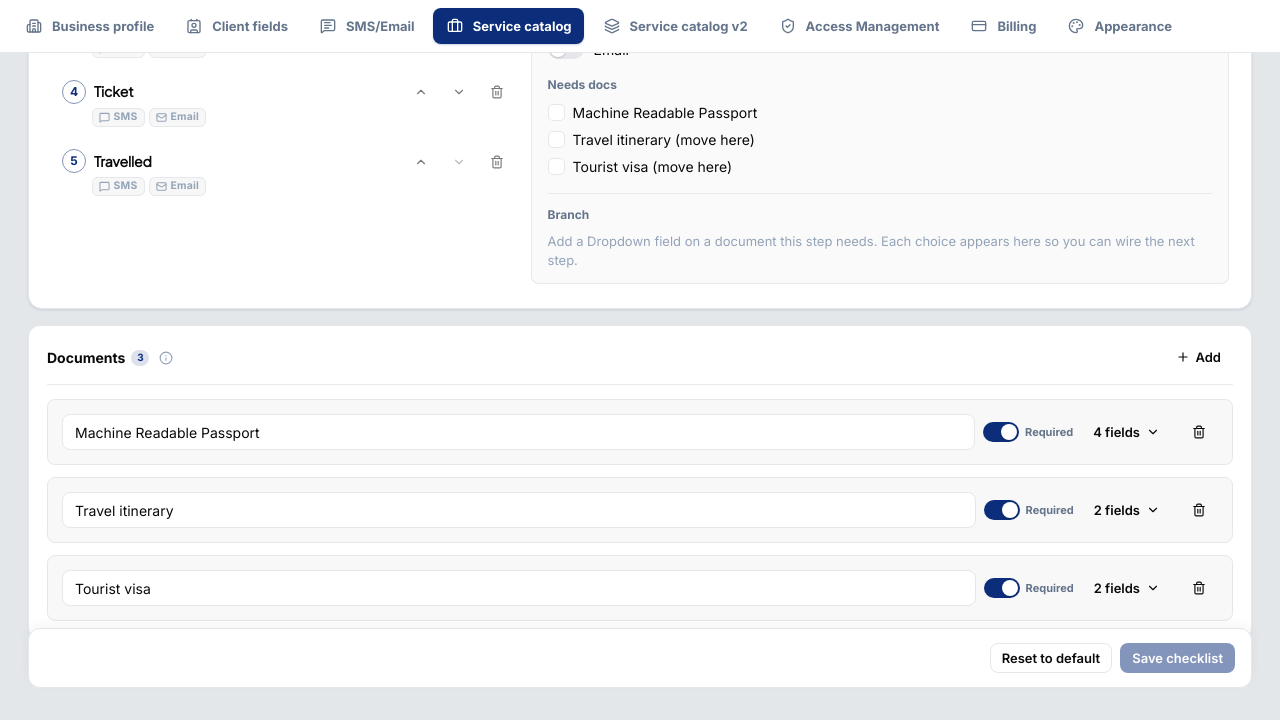
settings service catalog › sets document fields beside the document in the service checklist
(page scrolled)
Expected: the button "Save checklist" is shown, [1120,643,1235,673]
Click the button with aria-label "set fields for machine readable passport" at coordinates (1127, 432), box [1081,418,1172,448]
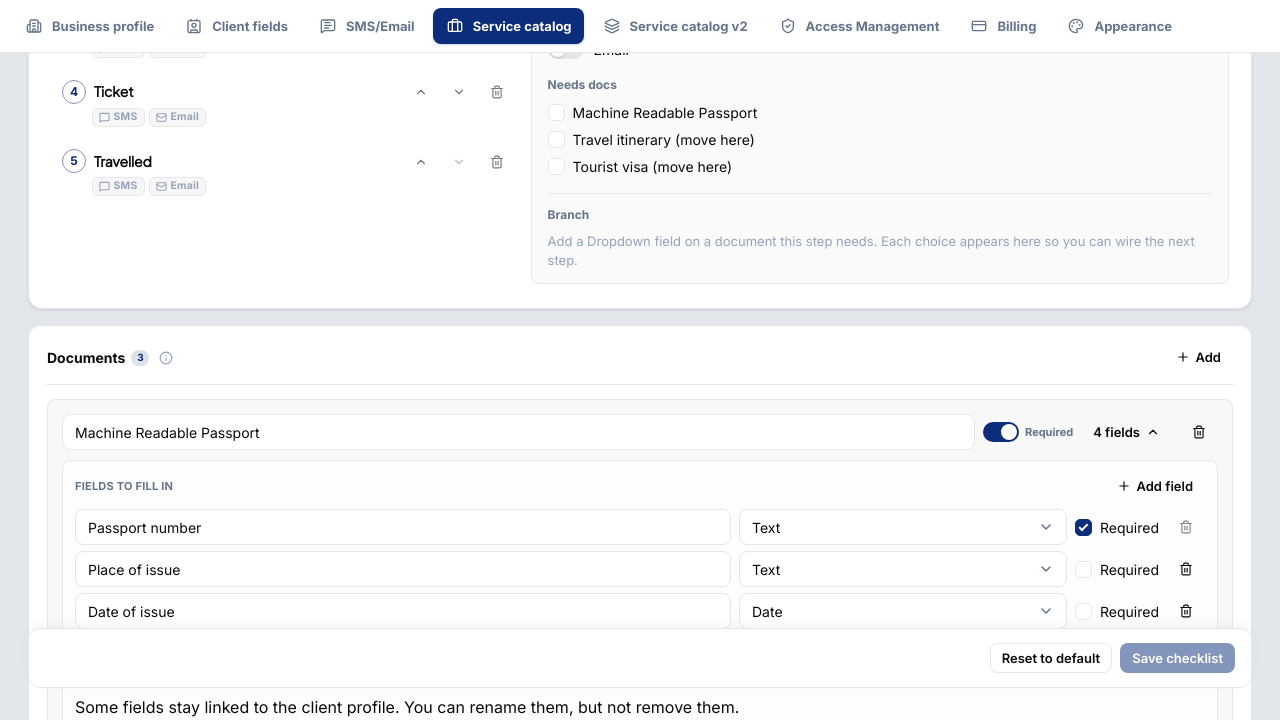
Expected: the text "Fields to fill in" is shown, [75,478,173,495]
Replace the text in the field named "Field name 1" with "Pass no." at coordinates (403, 528), box [75,510,731,546]
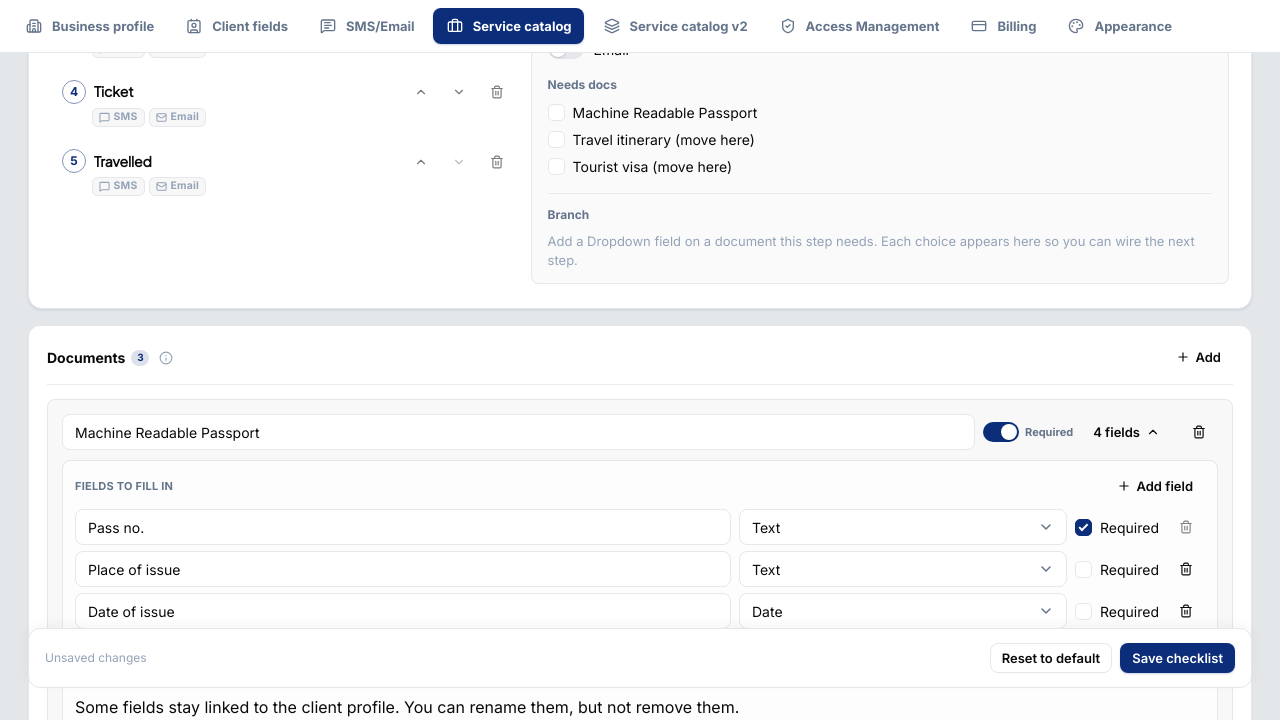
Click the button "Save checklist" at coordinates (1178, 658), box [1120,643,1235,673]
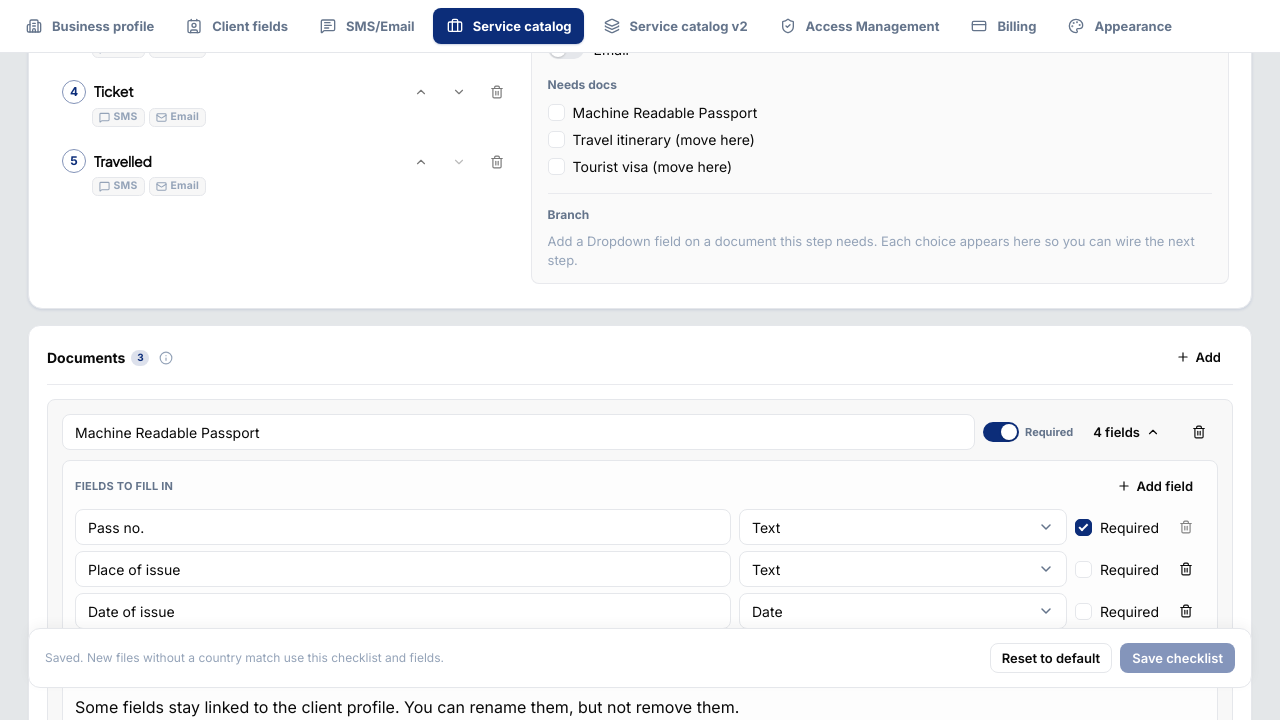
Expected: the text "Saved. New files without a country match" is shown, [45,650,444,665]
